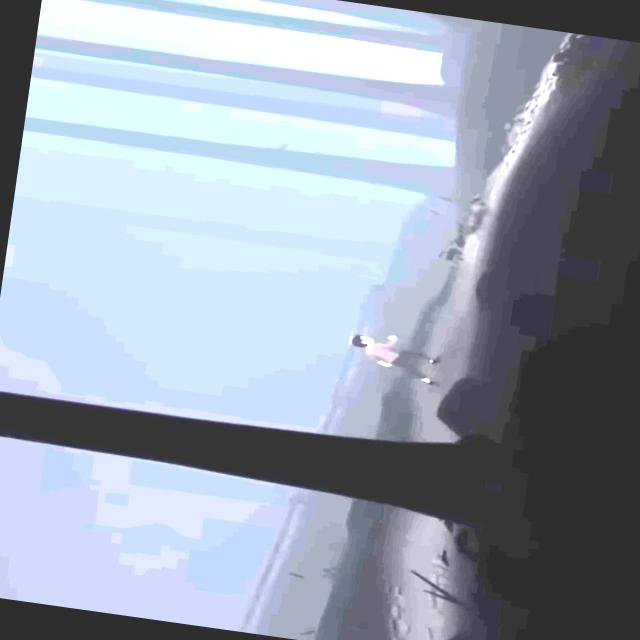boy: (344, 330, 444, 384)
